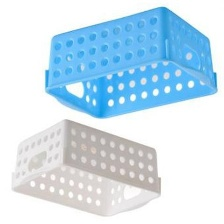plastic_box: (36, 0, 223, 124), (3, 117, 168, 221)
